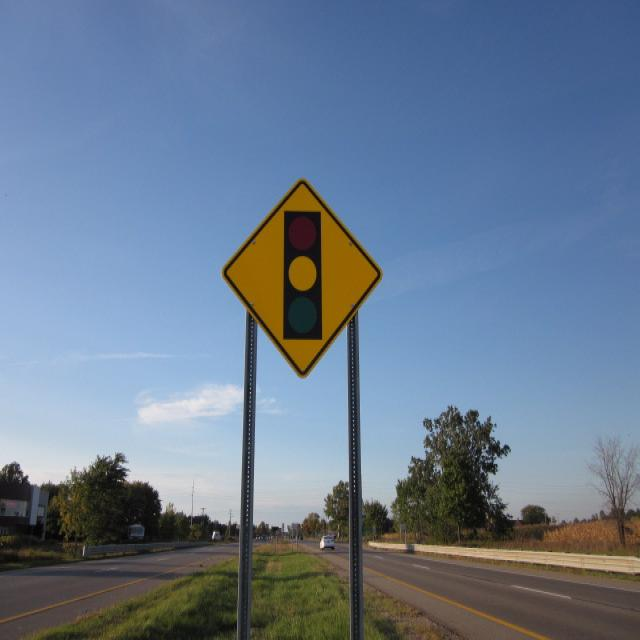warning: (220, 164, 384, 381)
